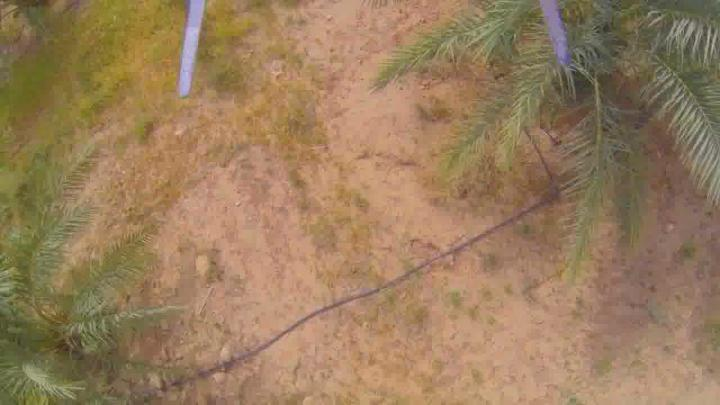Date-Palm-Crown: (482, 1, 714, 174), (0, 264, 100, 404)
